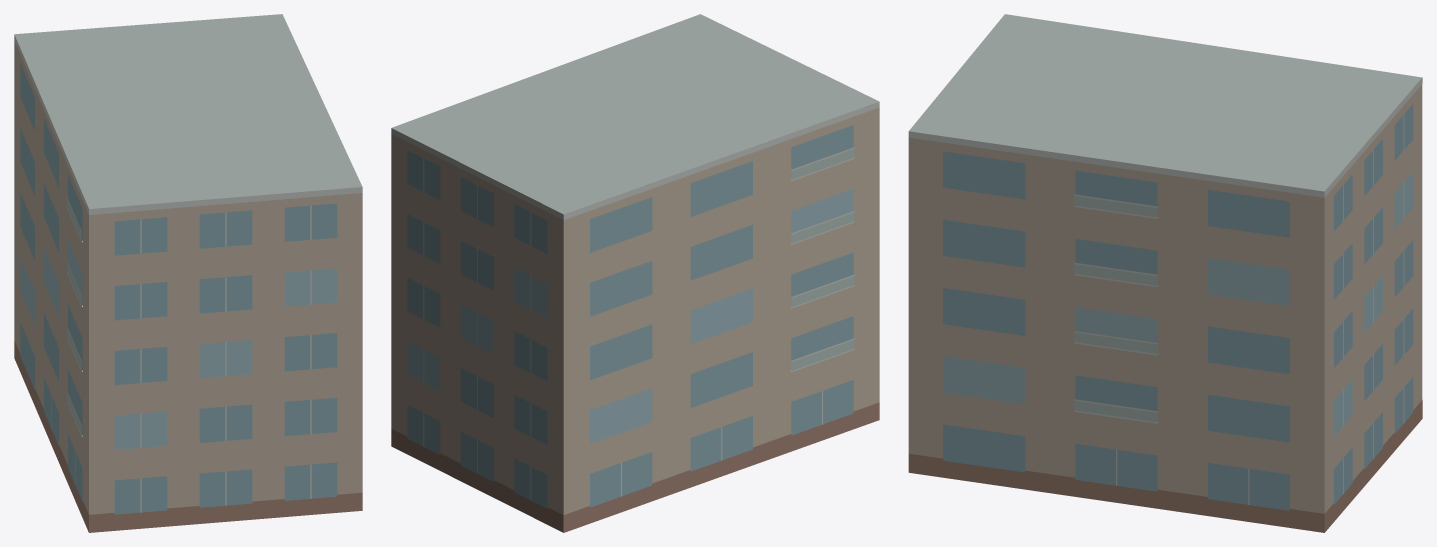
Rendered from survey-upis-32890072.glb.
The picture shows the model from 3 angles, left to right: view 1: azimuth 30°, elevation 25°; view 2: azimuth 150°, elevation 25°; view 3: azimuth 270°, elevation 25°; orthographic projection. The views are drawn at different scales.
Parts seen in each view (by area): view 1: survey-upis-32890072.tmp; view 2: survey-upis-32890072.tmp; view 3: survey-upis-32890072.tmp.
Boxes of the visible parts, x1=… form: survey-upis-32890072.tmp: x1=14, y1=14, x2=362, y2=532; survey-upis-32890072.tmp: x1=391, y1=14, x2=879, y2=532; survey-upis-32890072.tmp: x1=908, y1=14, x2=1422, y2=532.
Size of the model in its own units: 14.84 by 13.3 by 18.15.
